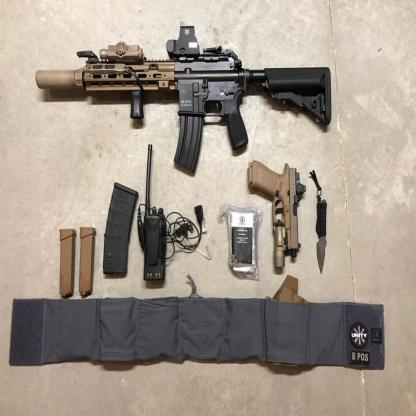Gun: (35, 24, 332, 179)
Knife: (309, 168, 330, 275)
Pistol: (247, 158, 308, 272)
